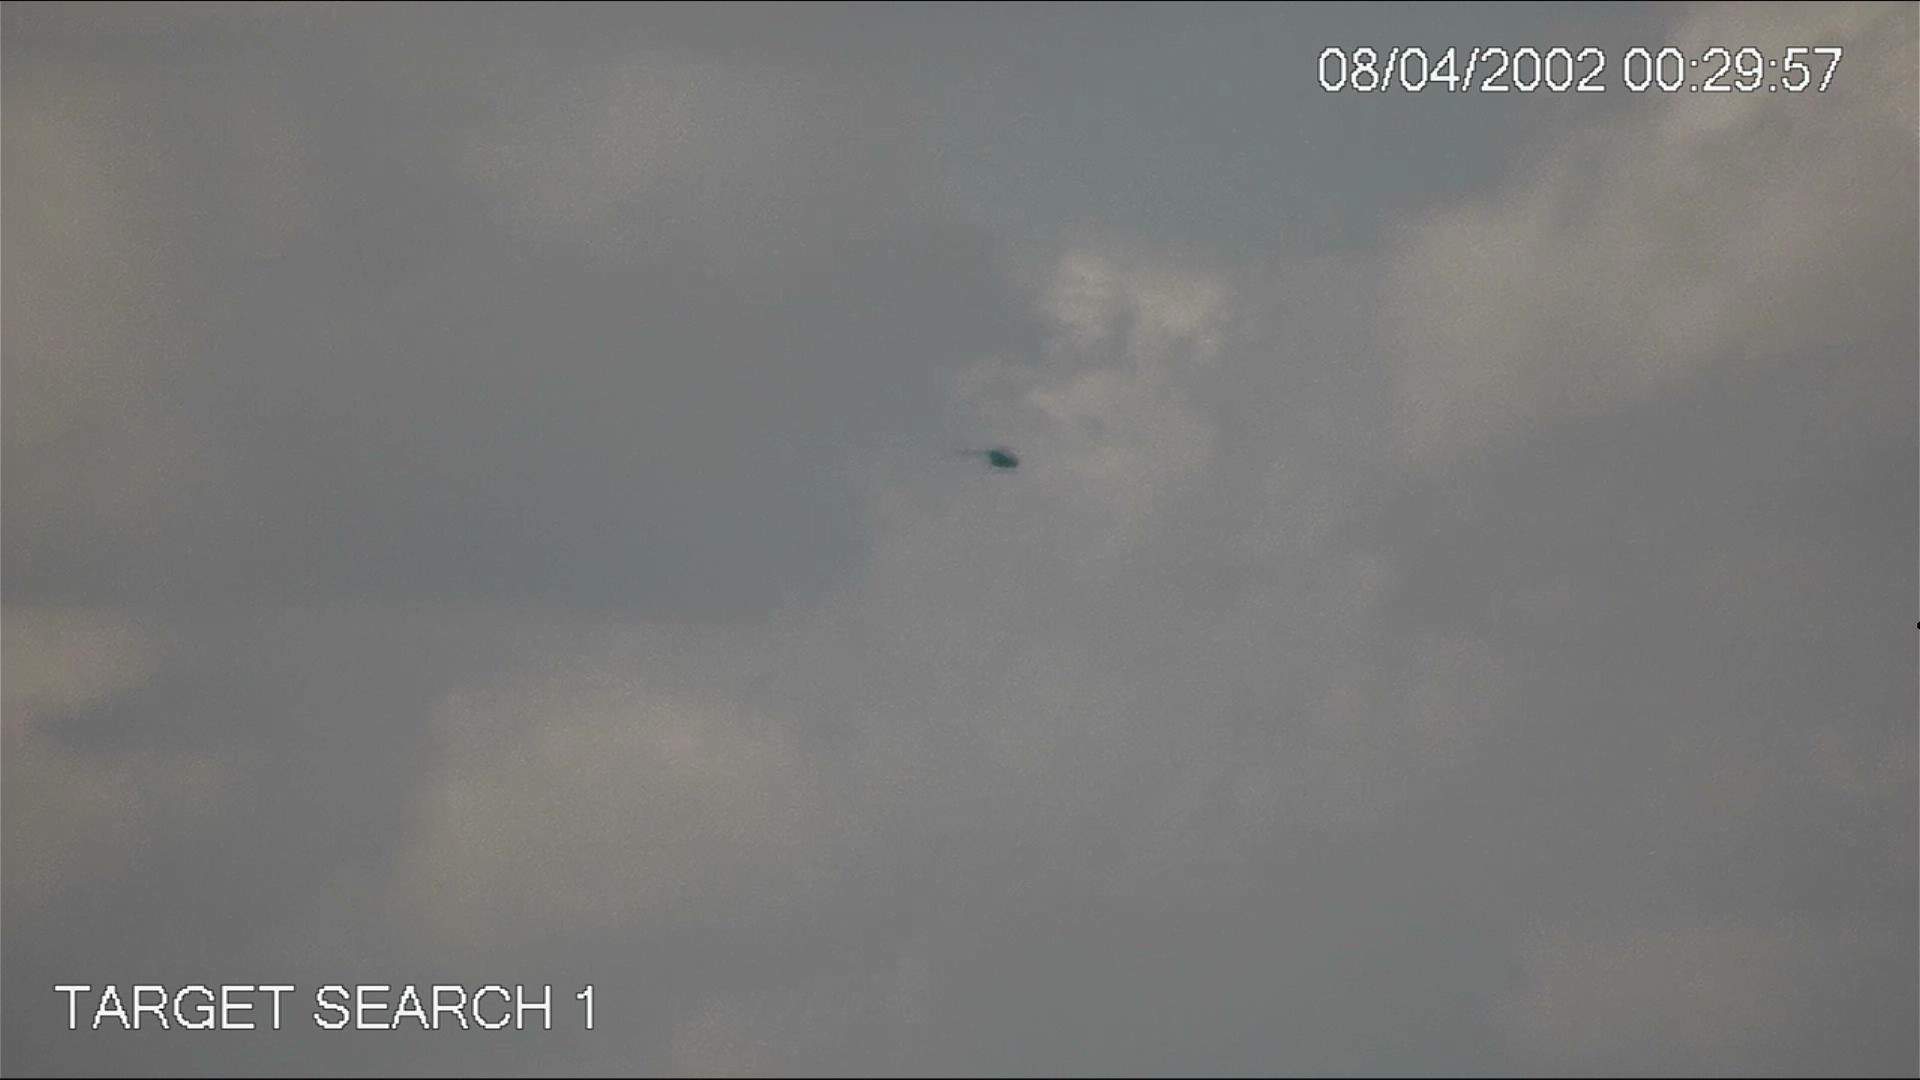SU_30: (949, 439, 1027, 473)
